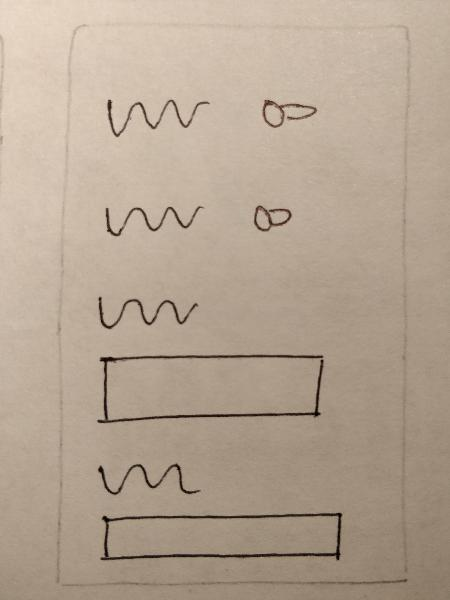switch: (249, 91, 331, 137), (242, 194, 304, 245)
text: (89, 448, 207, 506), (96, 90, 219, 143), (89, 284, 210, 336), (95, 195, 212, 247)
text_input: (87, 349, 336, 430), (95, 508, 352, 568)
